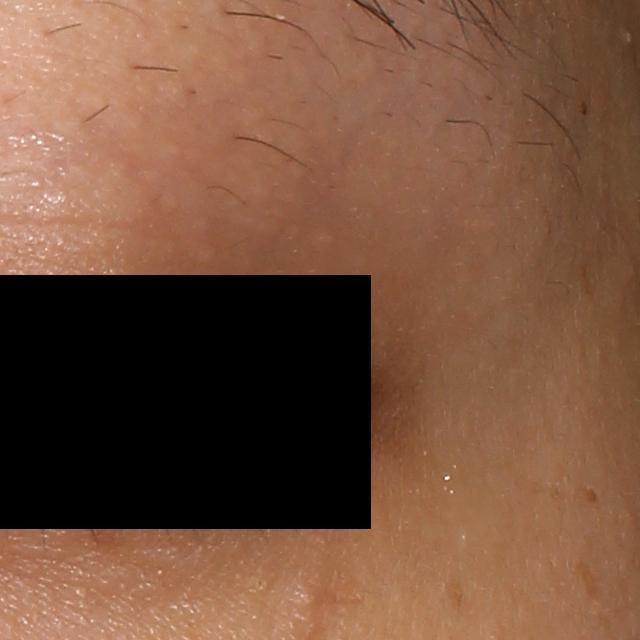comedo: (290, 578, 323, 617)
melasma: (571, 542, 603, 595), (439, 566, 468, 610)
